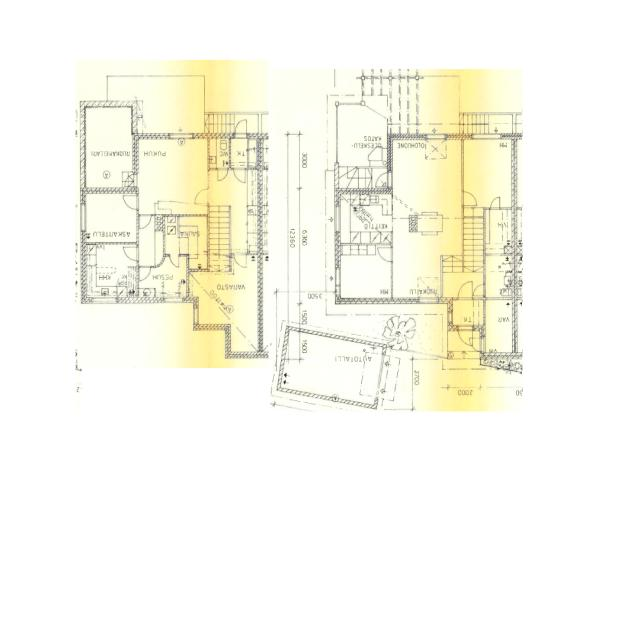door: (458, 324, 473, 346), (374, 172, 393, 187), (467, 338, 485, 352), (458, 282, 472, 300), (235, 120, 247, 139), (120, 174, 137, 186), (195, 189, 209, 203), (462, 192, 476, 206), (233, 253, 246, 268), (123, 196, 137, 209), (123, 247, 137, 260), (378, 248, 392, 261), (233, 168, 245, 183), (139, 214, 150, 228), (139, 266, 149, 280), (169, 254, 179, 267), (218, 168, 228, 181), (474, 285, 485, 296), (490, 198, 500, 210)
